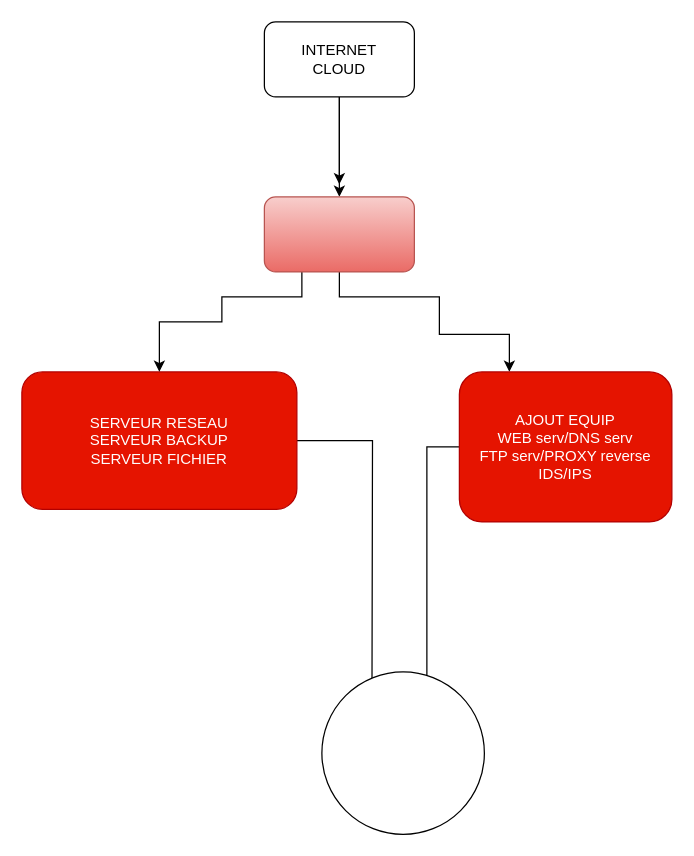
The diagram is 694 pixels wide and 856 high, and some of its shapes have lost their labels. The shapes that lost their labels are listed below. From the top down, each one's centre as x and y in pixels, then its label:
the point at 338,234: FIREWALL
the point at 402,752: LAN INTERN
